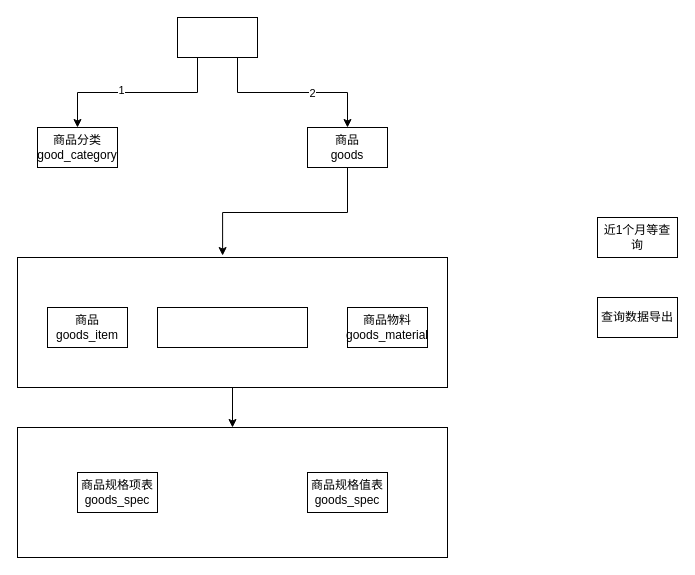
Some shapes in this 695 by 575 pixel diagram are drawn without their labels. Each missing label, with the centre of its shape:
商品物料分类表 goods_material_category: (x=232, y=327)
批量导入: (x=217, y=37)
